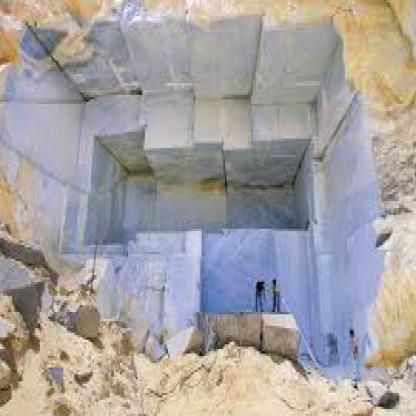Metamorphic_Quartize: (0, 9, 76, 195), (219, 102, 311, 185), (75, 83, 148, 169), (194, 7, 257, 104), (119, 5, 188, 92), (266, 12, 333, 97), (145, 83, 194, 171)
